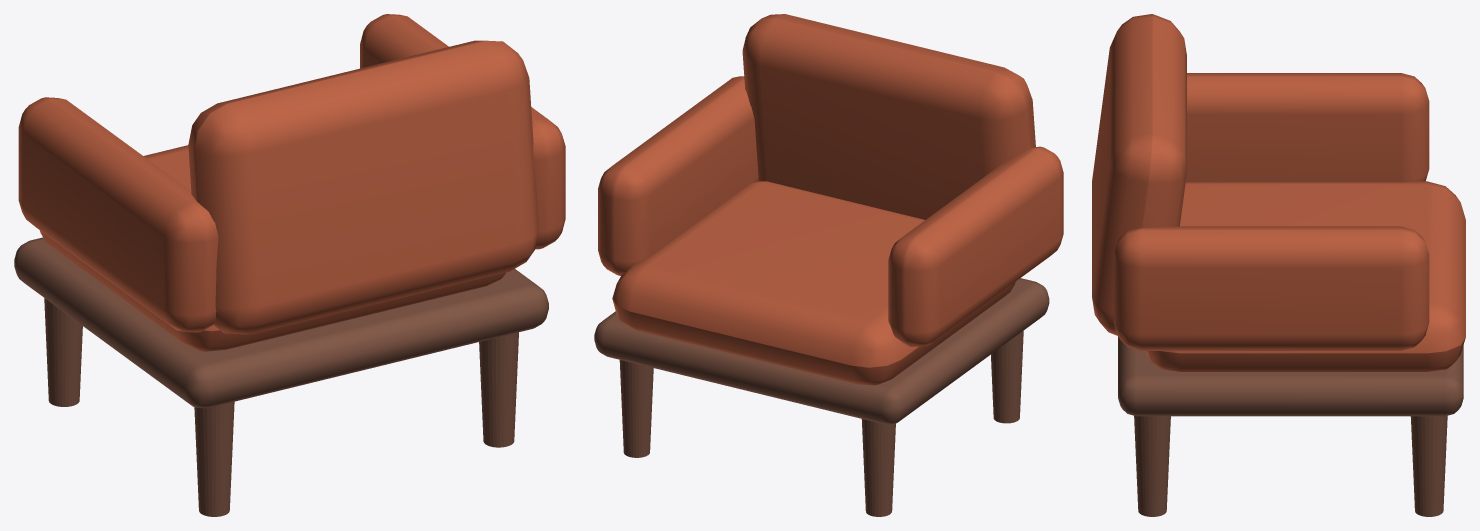
The model's file is asset.glb.
The picture shows the model from 3 angles, left to right: view 1: azimuth 30°, elevation 25°; view 2: azimuth 150°, elevation 25°; view 3: azimuth 270°, elevation 25°; orthographic projection. The views are drawn at different scales.
Visible parts, largest first — view 1: Chair back cushion, Chair rail, Chair upholstered arm, Chair upholstered arm.001, Chair seat, Chair tapered leg, Chair tapered leg.002, Chair tapered leg.001; view 2: Chair back cushion, Chair seat, Chair upholstered arm, Chair upholstered arm.001, Chair rail, Chair tapered leg.001, Chair tapered leg.003, Chair tapered leg; view 3: Chair upholstered arm.001, Chair upholstered arm, Chair seat, Chair back cushion, Chair rail, Chair tapered leg.002, Chair tapered leg.003.
Boxes of the visible parts, left/top/right/bottom form: Chair back cushion: left=188, top=40, right=538, bottom=334; Chair rail: left=14, top=237, right=548, bottom=408; Chair upholstered arm: left=18, top=97, right=218, bottom=332; Chair upholstered arm.001: left=360, top=14, right=565, bottom=249; Chair seat: left=40, top=145, right=505, bottom=351; Chair tapered leg: left=194, top=401, right=234, bottom=516; Chair tapered leg.002: left=479, top=332, right=518, bottom=447; Chair tapered leg.001: left=44, top=298, right=82, bottom=406; Chair back cushion: left=742, top=14, right=1035, bottom=219; Chair seat: left=612, top=181, right=1015, bottom=385; Chair upholstered arm: left=888, top=146, right=1063, bottom=346; Chair upholstered arm.001: left=598, top=76, right=758, bottom=275; Chair rail: left=594, top=278, right=1049, bottom=424; Chair tapered leg.001: left=861, top=419, right=895, bottom=516; Chair tapered leg.003: left=619, top=360, right=653, bottom=457; Chair tapered leg: left=991, top=331, right=1023, bottom=423; Chair upholstered arm.001: left=1113, top=226, right=1429, bottom=350; Chair upholstered arm: left=1185, top=73, right=1429, bottom=182; Chair seat: left=1146, top=181, right=1465, bottom=371; Chair back cushion: left=1092, top=14, right=1186, bottom=335; Chair rail: left=1118, top=337, right=1463, bottom=416; Chair tapered leg.002: left=1134, top=415, right=1170, bottom=516; Chair tapered leg.003: left=1410, top=415, right=1447, bottom=516.
Bounding box in the file's own units: 0.98 × 0.9484 × 0.8649.
